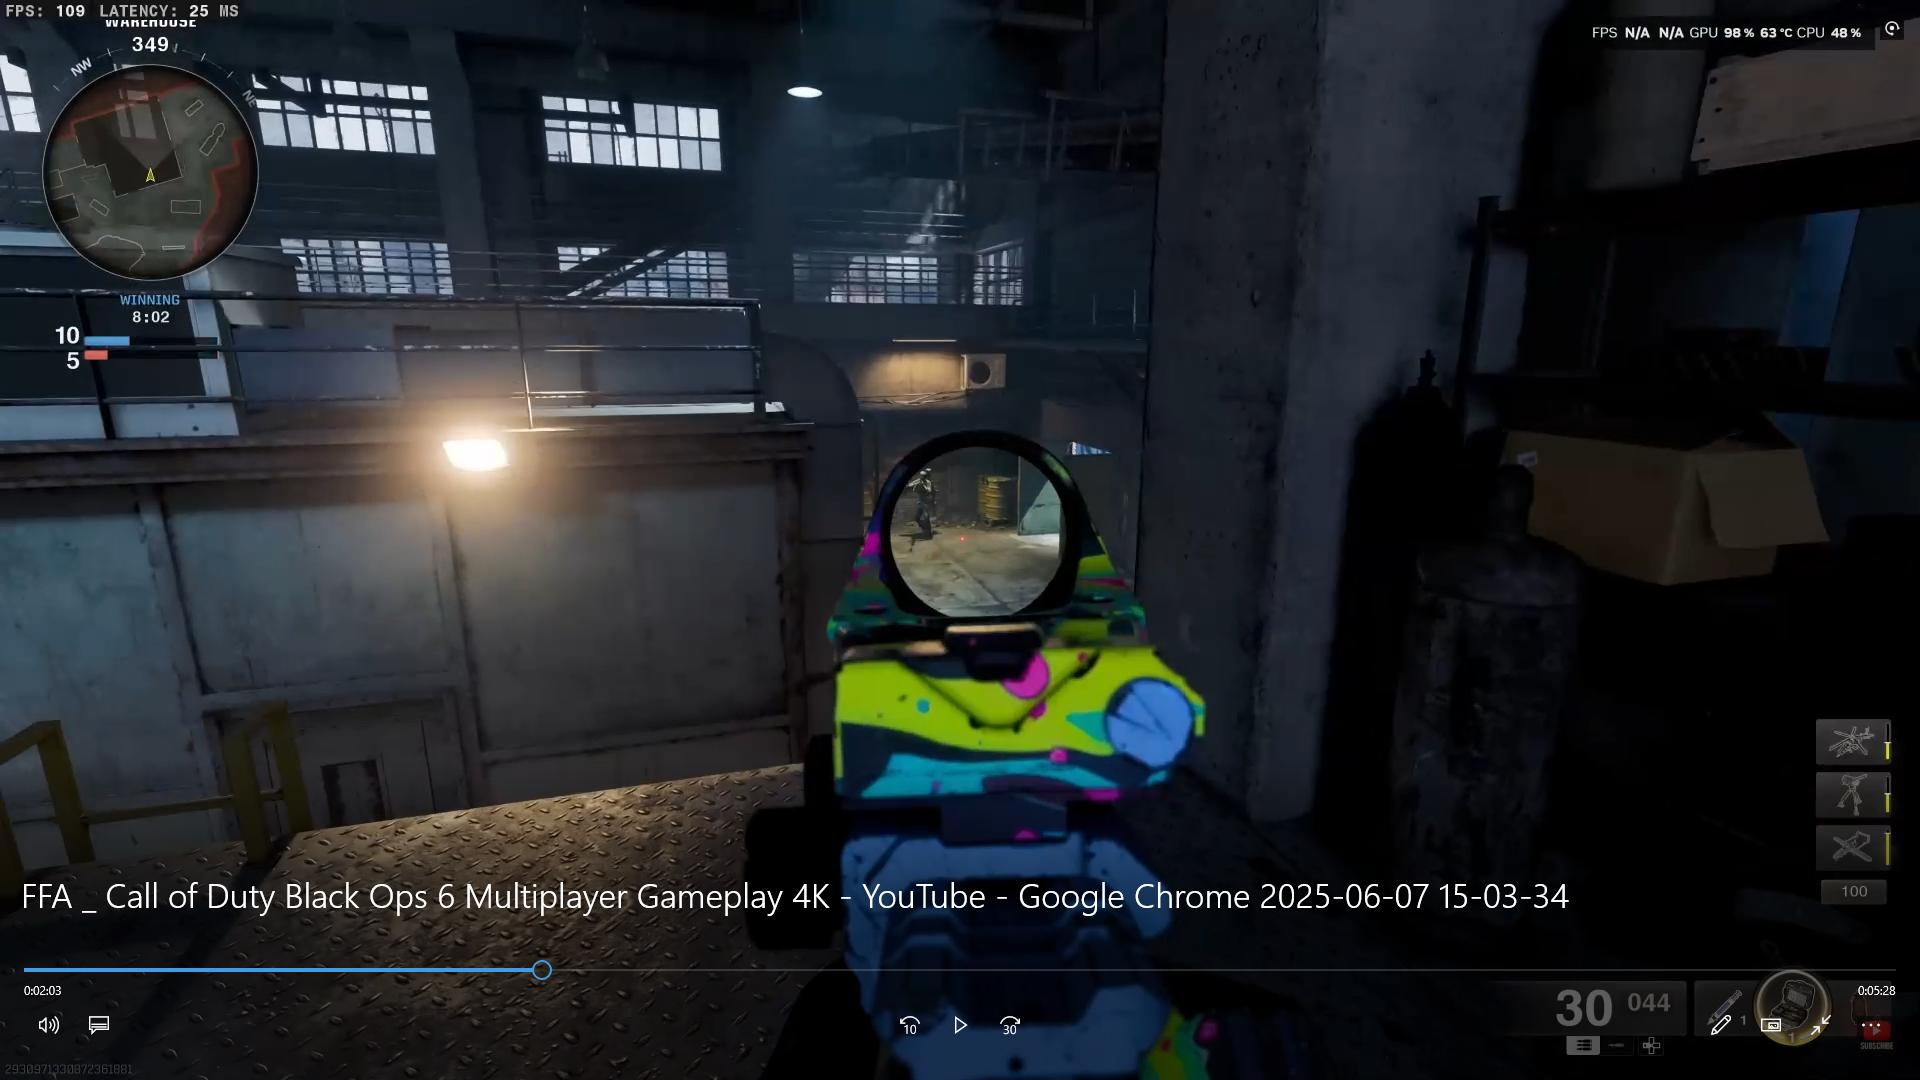Enemy: (906, 467, 942, 543)
